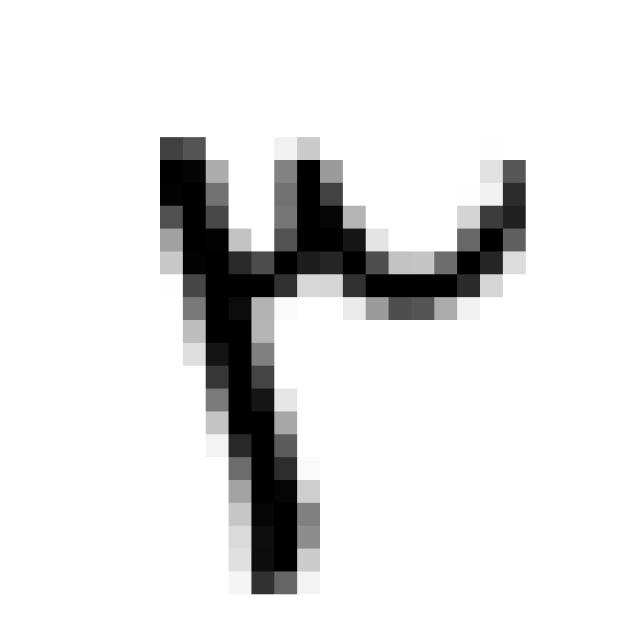3 -three-: (133, 110, 541, 611)
